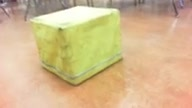cube: (30, 6, 121, 86)
